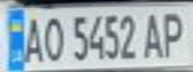2: (118, 10, 142, 61)
4: (84, 11, 106, 61)
5: (66, 11, 90, 62), (103, 11, 124, 61)
A: (139, 9, 169, 60), (21, 12, 45, 64)
O: (39, 12, 66, 63)
P: (157, 7, 190, 58)
